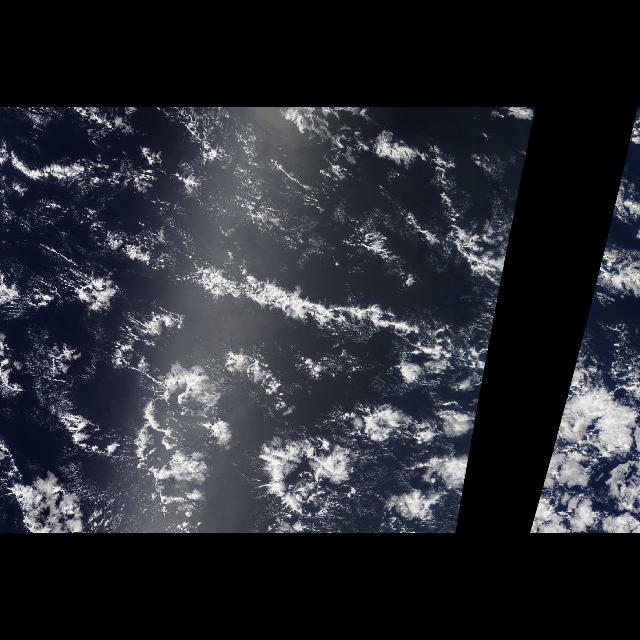Fish: (86, 196, 488, 424)
Flower: (335, 395, 469, 527)
Gravel: (9, 126, 400, 532)
